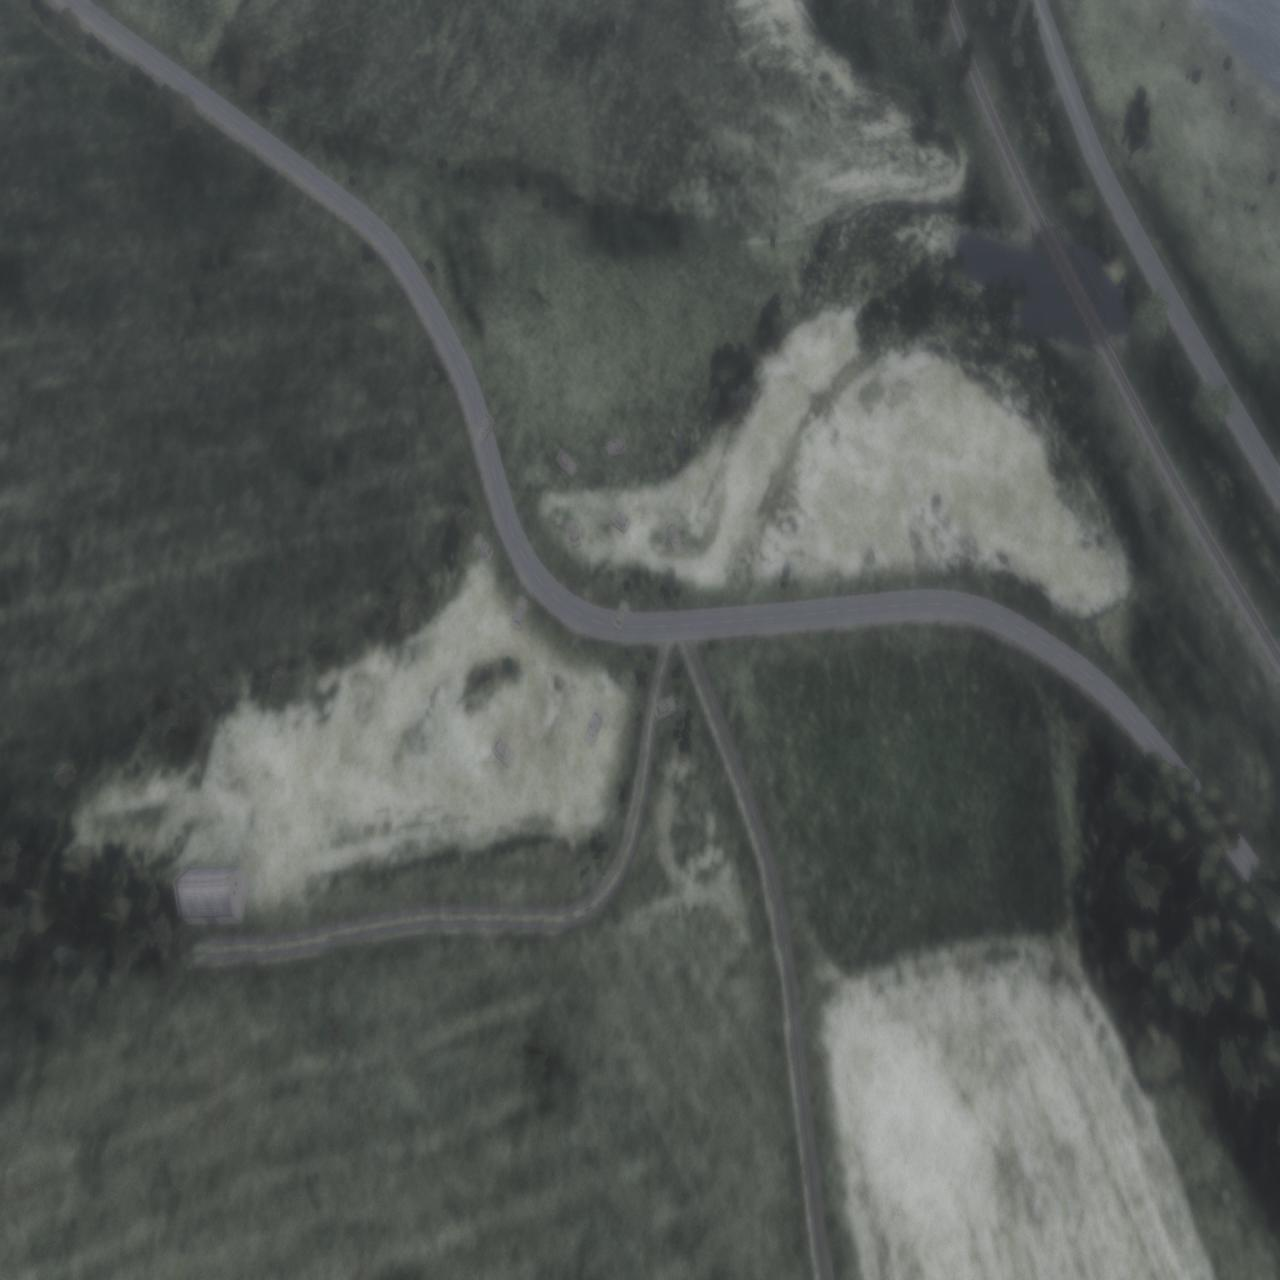MIL_Veh: (469, 524, 495, 564), (653, 693, 682, 723), (511, 587, 531, 632), (492, 735, 517, 770), (554, 444, 579, 478), (584, 710, 604, 750), (565, 515, 585, 554), (613, 591, 631, 635), (475, 410, 496, 445), (600, 435, 628, 461), (608, 504, 632, 535), (665, 517, 683, 552)
